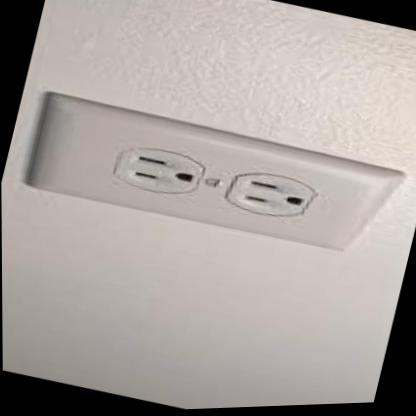OUTLET: (23, 76, 392, 271)
